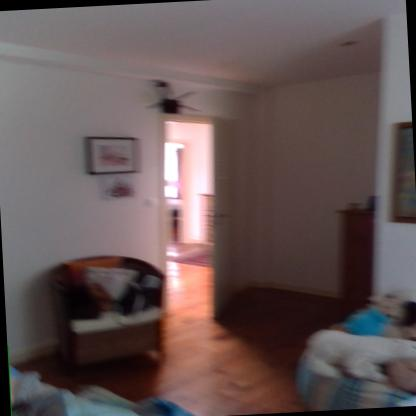semi: (146, 103, 258, 329)
